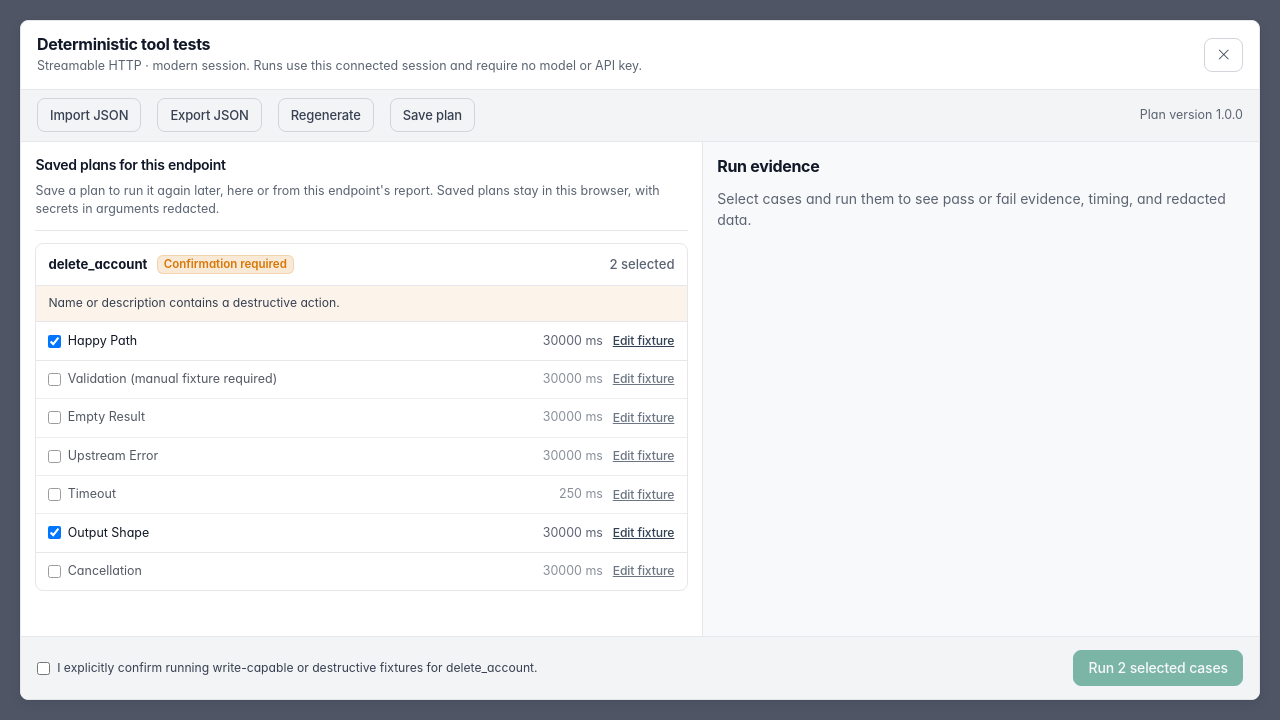
Test case: DeterministicTestPanel › requires a fresh explicit confirmation before enabling an inferred destructive tool
This screenshot has width=1280, height=720.
Expected: the button "Run 2 selected cases" is disabled, [1074, 650, 1243, 686]
Click the 8th checkbox: x=44, y=668 [37, 662, 50, 675]
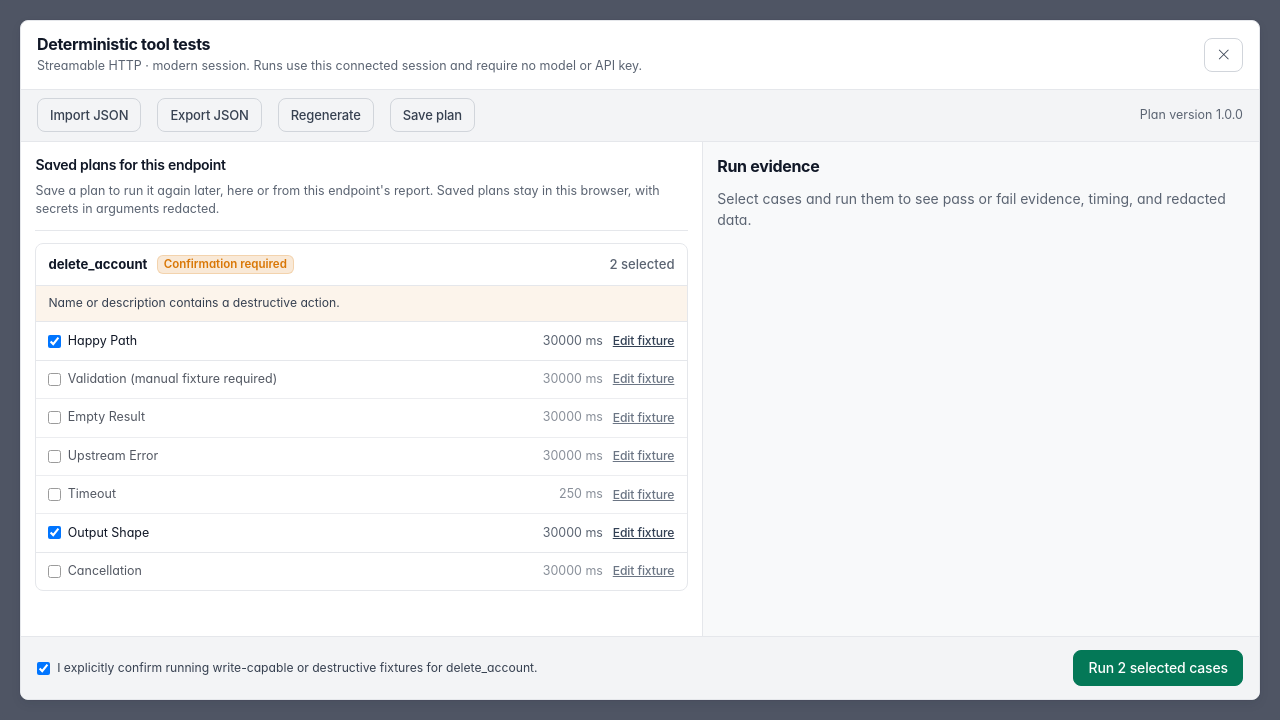
Now the button "Run 2 selected cases" is enabled, box [1074, 650, 1243, 686]
